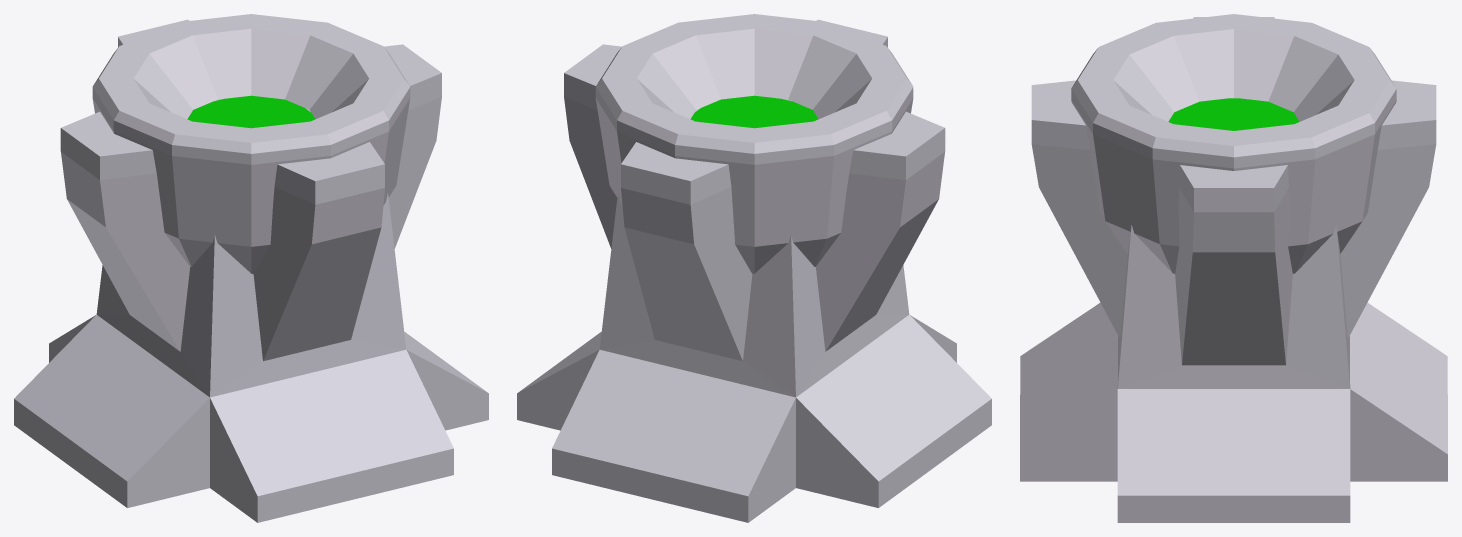
Rendered from part.base.tower.fbx.
3 renders of one model, left to right at view 1: azimuth 30°, elevation 25°; view 2: azimuth 150°, elevation 25°; view 3: azimuth 270°, elevation 25°, orthographic. The views are drawn at different scales.
Visible parts, largest first — view 1: part.base.tower; view 2: part.base.tower; view 3: part.base.tower.
Part boxes in pixels (box(x1,y1,x2,y2)): part.base.tower: box(14, 14, 488, 522); part.base.tower: box(517, 14, 991, 522); part.base.tower: box(1020, 14, 1447, 522).
Size of the model in its own units: 1.4 by 1.28 by 1.4.
